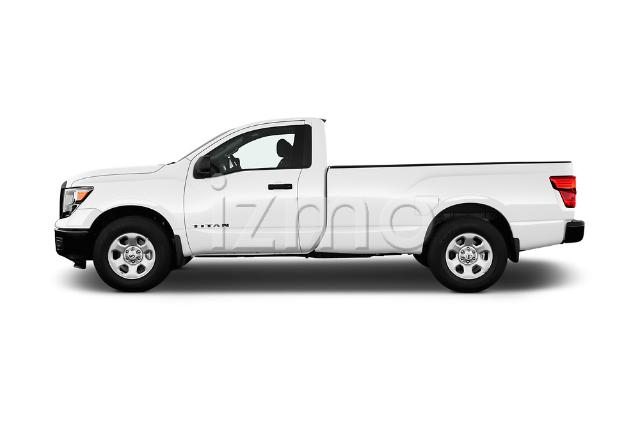pickup-truck: (55, 117, 585, 295)
